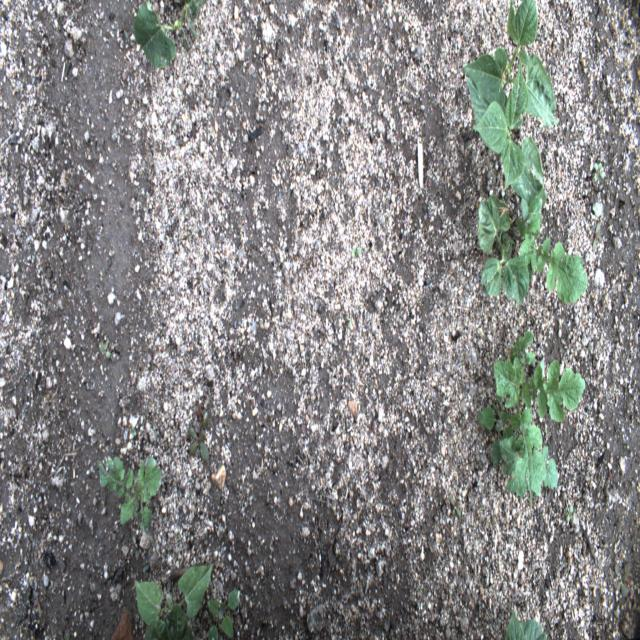crop: (461, 0, 559, 127), (466, 56, 546, 207), (478, 195, 530, 316), (134, 564, 214, 639), (133, 0, 205, 68), (503, 607, 548, 639)
weed: (476, 330, 585, 510), (512, 188, 588, 304), (98, 456, 160, 534), (207, 588, 243, 639), (188, 401, 209, 462), (592, 221, 602, 251), (99, 336, 110, 358), (450, 496, 462, 516), (594, 160, 605, 180), (563, 503, 573, 522)
